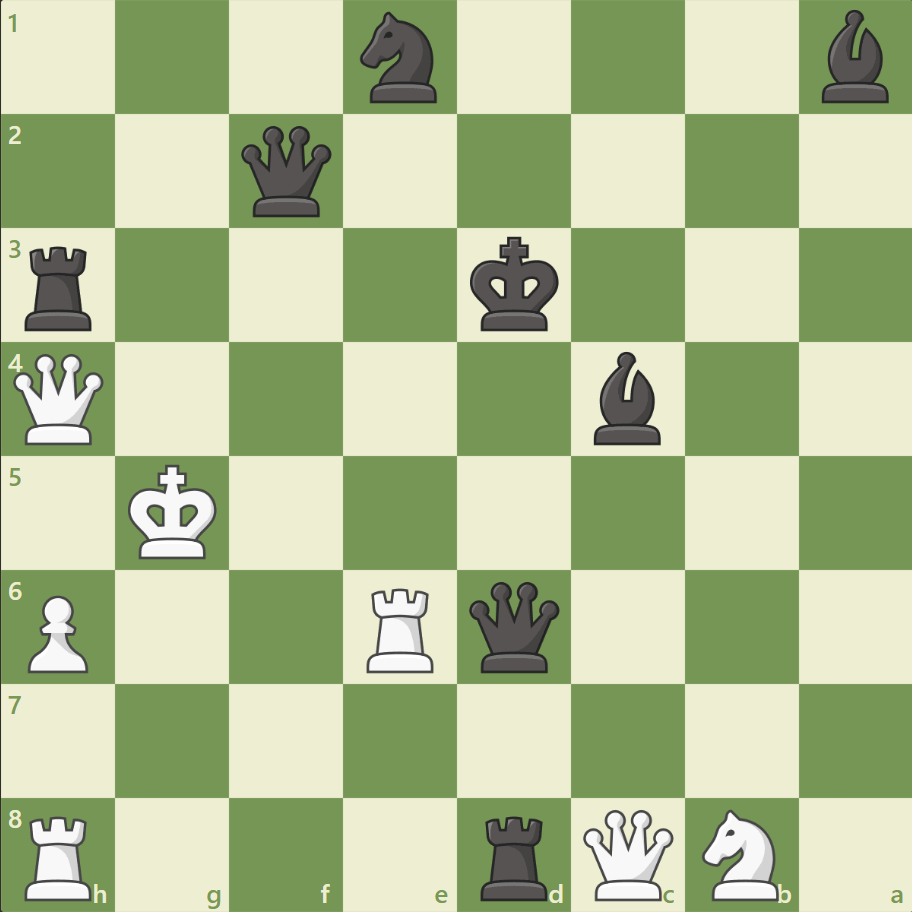K: (124, 458, 224, 566)
N: (692, 802, 789, 904)
P: (20, 586, 95, 677)
Q: (10, 349, 109, 449), (578, 804, 677, 903)
R: (19, 806, 102, 904), (360, 579, 442, 676)
b: (812, 6, 896, 109), (585, 347, 669, 449)
k: (465, 231, 565, 339)
n: (351, 7, 449, 110)
q: (464, 576, 563, 676), (237, 122, 336, 222)
r: (473, 806, 556, 904), (19, 239, 102, 336)
